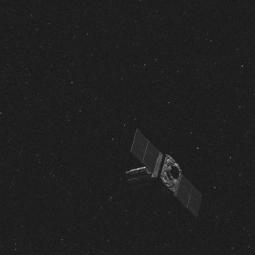soho: (128, 122, 212, 218)
